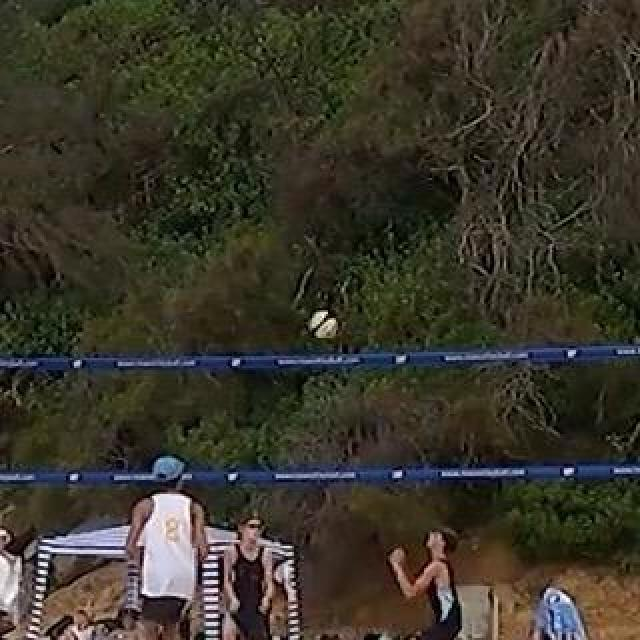volleyball: (310, 311, 338, 337)
